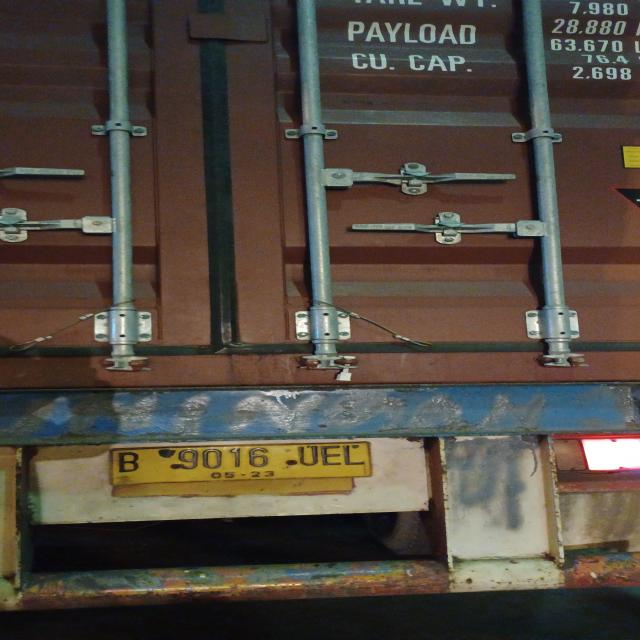seal: (336, 354, 361, 382)
